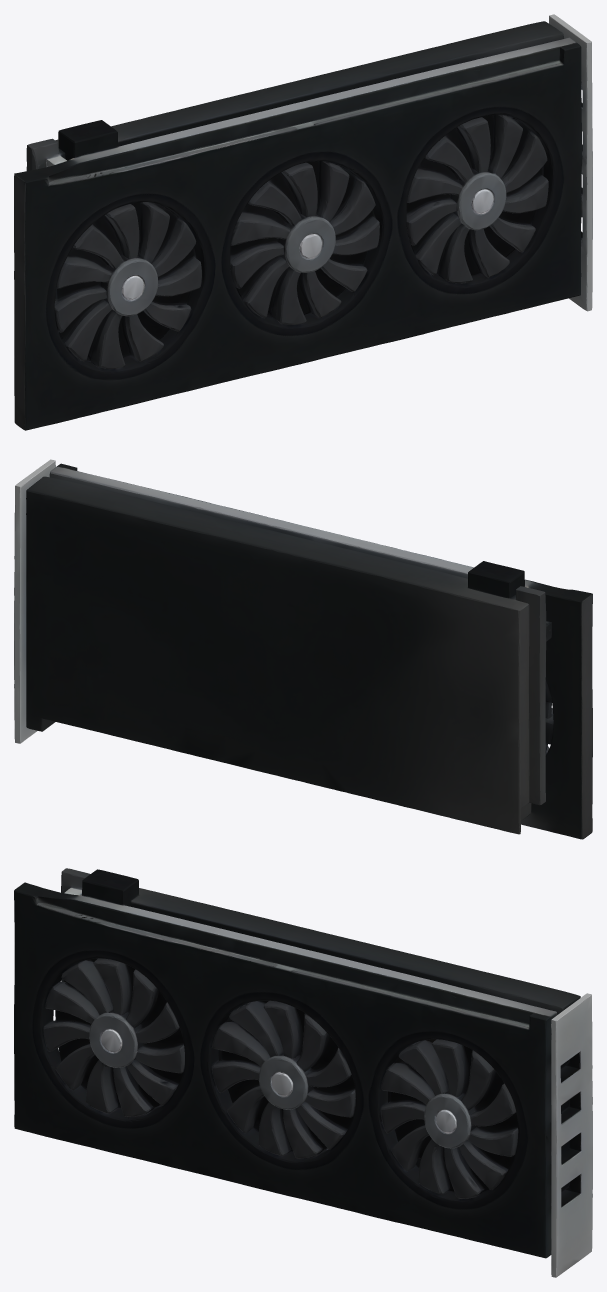
Rendered from gpu.fbx.
3 views of the same model, one above another, from view 1: azimuth 30°, elevation 25°; view 2: azimuth 150°, elevation 25°; view 3: azimuth 330°, elevation 25° (orthographic). The views are drawn at different scales.
Parts seen in each view (by area): view 1: model; view 2: model; view 3: model.
Boxes of the visible parts, left/top/right/bottom form: model: left=14, top=14, right=592, bottom=430; model: left=14, top=459, right=592, bottom=839; model: left=14, top=868, right=592, bottom=1277.
Size of the model in its own units: 190 by 90.8 by 23.87.
Materials: 1 (1 with a texture image).
